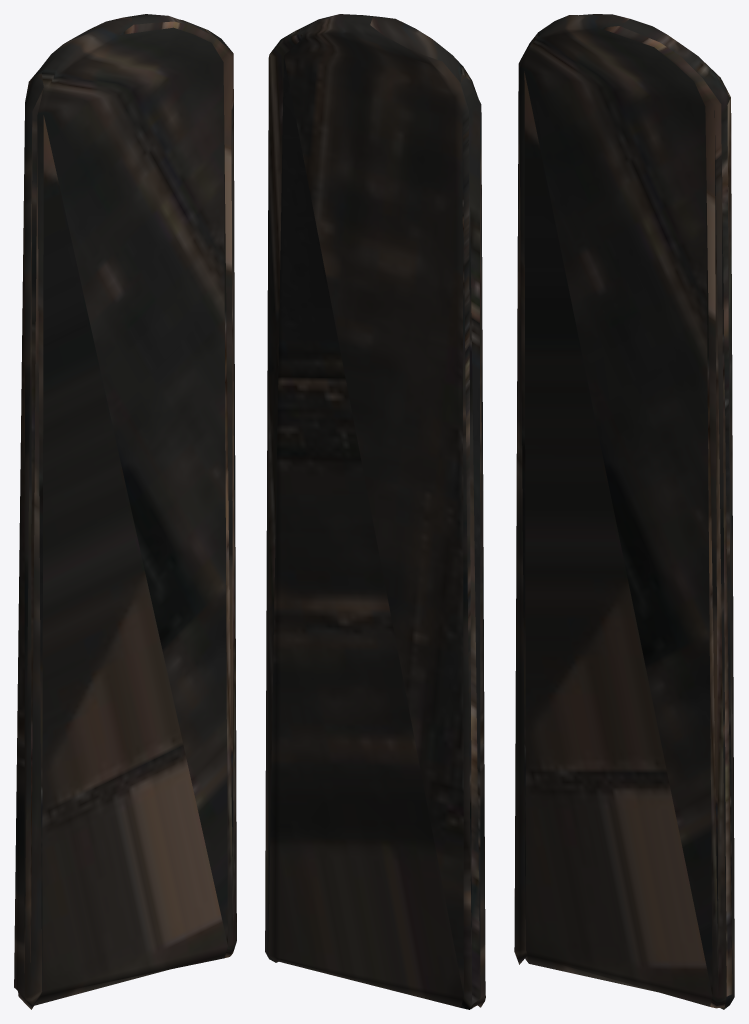
The model's file is hospital sign5.fbx.
The picture shows the model from 3 angles, left to right: view 1: azimuth 30°, elevation 25°; view 2: azimuth 150°, elevation 25°; view 3: azimuth 330°, elevation 25°; orthographic projection.
Visible parts, largest first — view 1: hospital sign5; view 2: hospital sign5; view 3: hospital sign5.
Part boxes in pixels (<box>): hospital sign5: <box>14,14,236,1009</box>; hospital sign5: <box>265,14,485,1009</box>; hospital sign5: <box>514,14,734,1009</box>.
Size of the model in its own units: 72.06 by 307 by 10.18.
